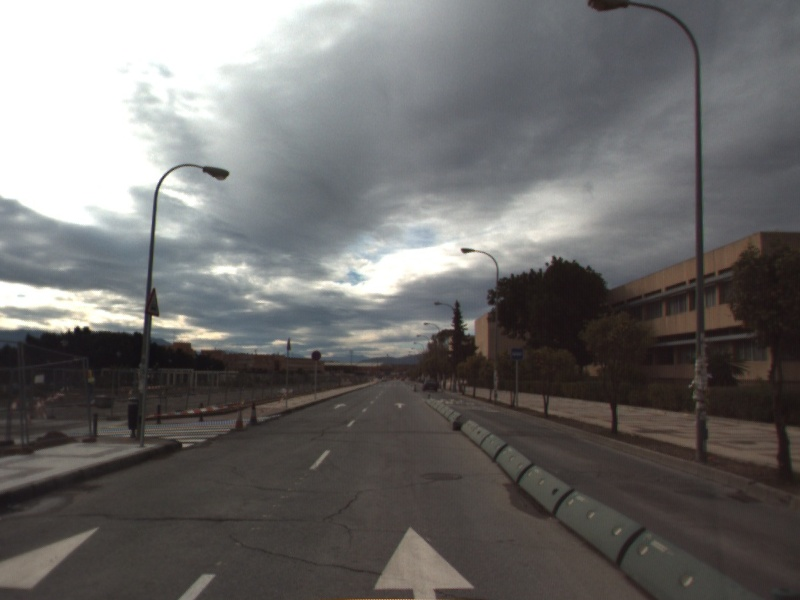STRAIGHT: (367, 521, 480, 600), (331, 401, 349, 411), (392, 400, 409, 410)
